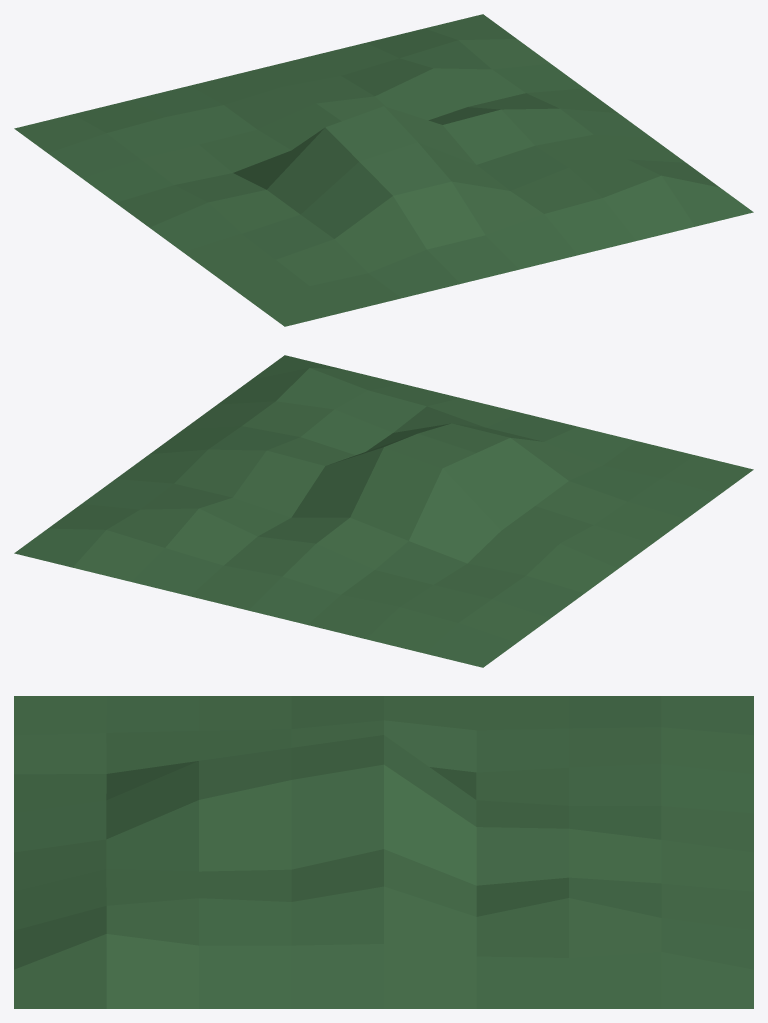
File: Terrain_4_Light_Green.fbx
3 views of the same model, one above another, from view 1: azimuth 30°, elevation 25°; view 2: azimuth 150°, elevation 25°; view 3: azimuth 270°, elevation 25° (orthographic). The views are drawn at different scales.
Visible parts, largest first — view 1: Terrain_4_Light_Green; view 2: Terrain_4_Light_Green; view 3: Terrain_4_Light_Green.
Boxes of the visible parts, <box> form: Terrain_4_Light_Green: <box>14,14,753,326</box>; Terrain_4_Light_Green: <box>14,355,753,667</box>; Terrain_4_Light_Green: <box>14,696,753,1008</box>.
Bounding box in the file's own units: 3000 × 393 × 3000.
